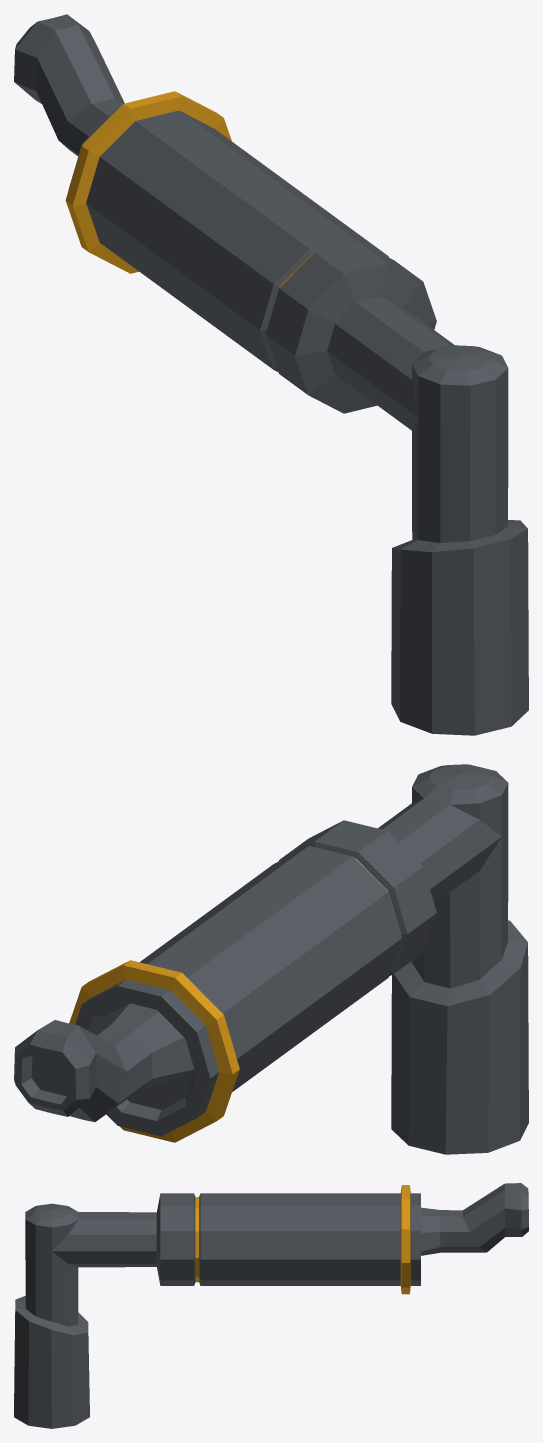
Rendered from Personal_Vehicle_02_Exhaust_Yellow.fbx.
The picture shows the model from 3 angles, top to bottom: view 1: azimuth 30°, elevation 25°; view 2: azimuth 150°, elevation 25°; view 3: azimuth 270°, elevation 25°; orthographic projection. The views are drawn at different scales.
Parts seen in each view (by area): view 1: Personal_Vehicle_02_Exhaust_Yellow; view 2: Personal_Vehicle_02_Exhaust_Yellow; view 3: Personal_Vehicle_02_Exhaust_Yellow.
Boxes of the visible parts, x1=… form: Personal_Vehicle_02_Exhaust_Yellow: x1=14, y1=14, x2=528, y2=735; Personal_Vehicle_02_Exhaust_Yellow: x1=14, y1=764, x2=528, y2=1154; Personal_Vehicle_02_Exhaust_Yellow: x1=14, y1=1183, x2=528, y2=1428.
Bounding box in the file's own units: 21.09 × 47.18 × 97.73.
Materials: 1 (1 with a texture image).
